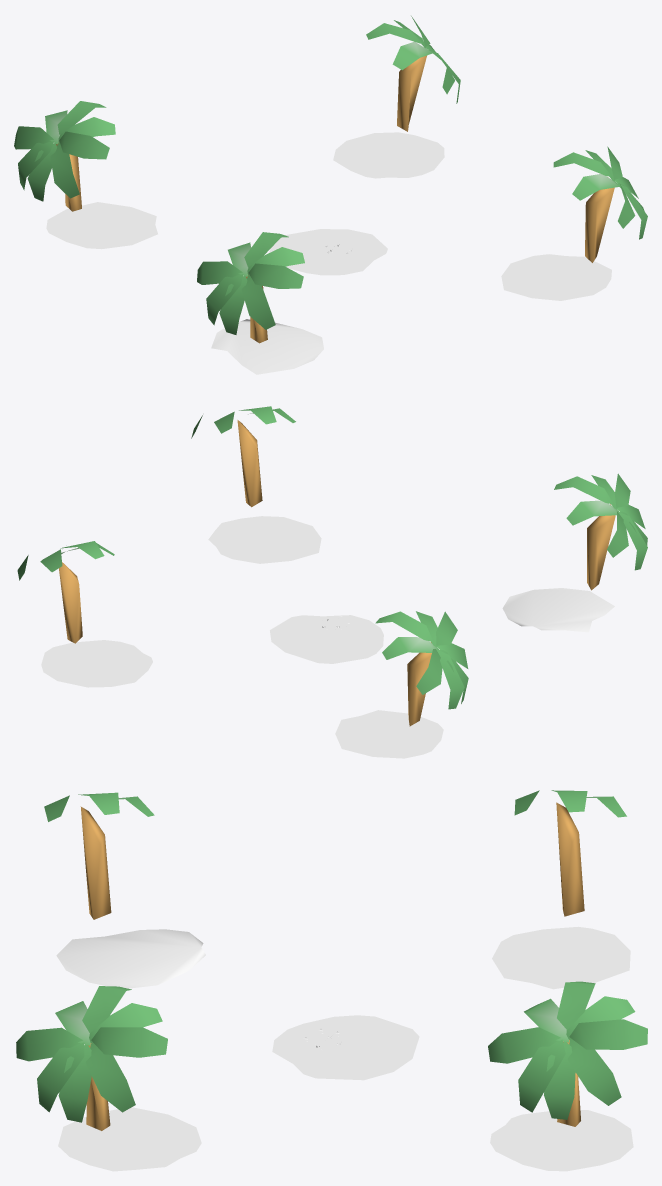
Rendered from map2.glb.
3 views of the same model, one above another, from view 1: azimuth 30°, elevation 25°; view 2: azimuth 150°, elevation 25°; view 3: azimuth 270°, elevation 25° (orthographic). The views are drawn at different scales.
Parts seen in each view (by area): view 1: Palm_Tree.001, Palm_Tree.002, Cylinder.006, Cylinder.007, Cylinder.008, Palm_Tree, Cylinder.005, Cylinder.009, Palm_Tree.003, Alter; view 2: Palm_Tree.002, Palm_Tree.001, Cylinder.006, Cylinder.007, Cylinder.008, Cylinder.009, Cylinder.005, Palm_Tree.003, Palm_Tree, Alter; view 3: Palm_Tree.003, Palm_Tree, Cylinder.005, Cylinder.008, Cylinder.006, Cylinder.007, Cylinder.009, Palm_Tree.001, Palm_Tree.002, Alter.
Part boxes in pixels (x1,y1,x2,y2): Palm_Tree.001: [197, 232, 304, 343]; Palm_Tree.002: [14, 101, 115, 211]; Cylinder.006: [501, 254, 611, 300]; Cylinder.007: [333, 132, 444, 178]; Cylinder.008: [46, 202, 157, 249]; Palm_Tree: [553, 146, 647, 262]; Cylinder.005: [211, 319, 323, 374]; Cylinder.009: [269, 229, 387, 275]; Palm_Tree.003: [366, 16, 460, 131]; Alter: [312, 242, 359, 261]; Palm_Tree.002: [375, 611, 468, 726]; Palm_Tree.001: [554, 473, 647, 590]; Cylinder.006: [208, 516, 321, 563]; Cylinder.007: [41, 640, 152, 687]; Cylinder.008: [335, 710, 443, 758]; Cylinder.009: [270, 615, 383, 663]; Cylinder.005: [502, 588, 614, 632]; Palm_Tree.003: [17, 541, 114, 643]; Palm_Tree: [191, 406, 295, 507]; Alter: [312, 616, 356, 637]; Palm_Tree.003: [488, 981, 647, 1126]; Palm_Tree: [16, 986, 167, 1130]; Cylinder.005: [56, 929, 205, 988]; Cylinder.008: [492, 926, 630, 989]; Cylinder.006: [58, 1107, 201, 1171]; Cylinder.007: [490, 1110, 633, 1171]; Cylinder.009: [272, 1015, 419, 1080]; Palm_Tree.001: [44, 792, 154, 919]; Palm_Tree.002: [514, 790, 626, 916]; Alter: [296, 1029, 355, 1053].
Bounding box in the file's own units: 2.26 × 0.6231 × 2.2.
